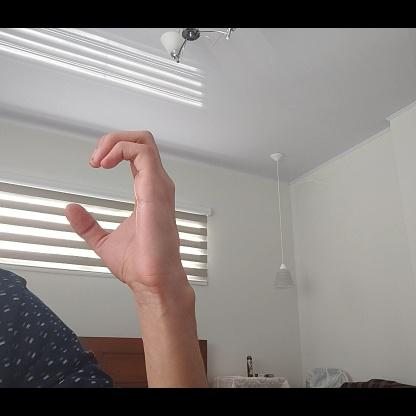C: (62, 126, 190, 287)
